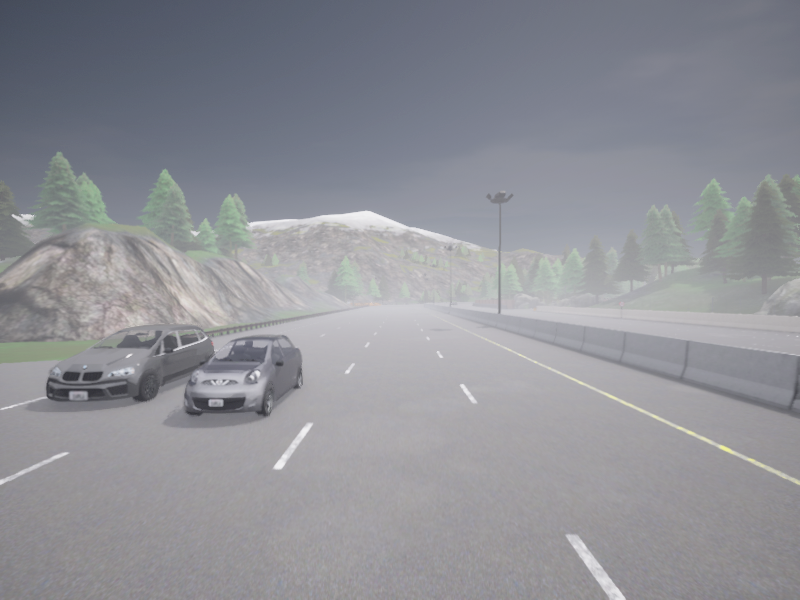vehicle: (46, 324, 213, 401), (183, 335, 302, 415), (452, 302, 457, 305)
